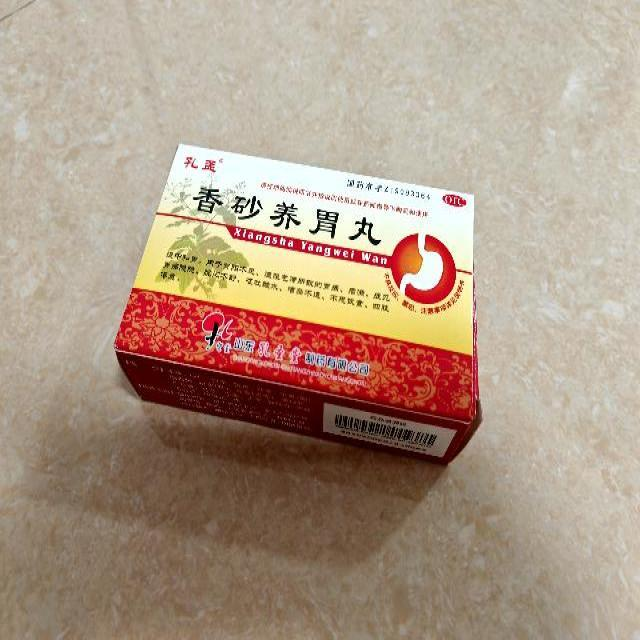box: (116, 144, 482, 467)
